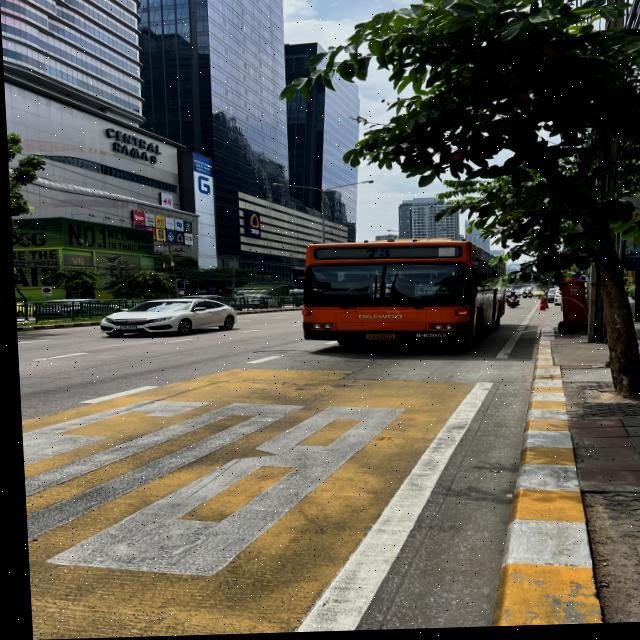BMTA-bus: (294, 239, 504, 358)
Bus-Line-Number: (354, 248, 396, 263)
Destination-Sign-Normal: (412, 286, 448, 299)
